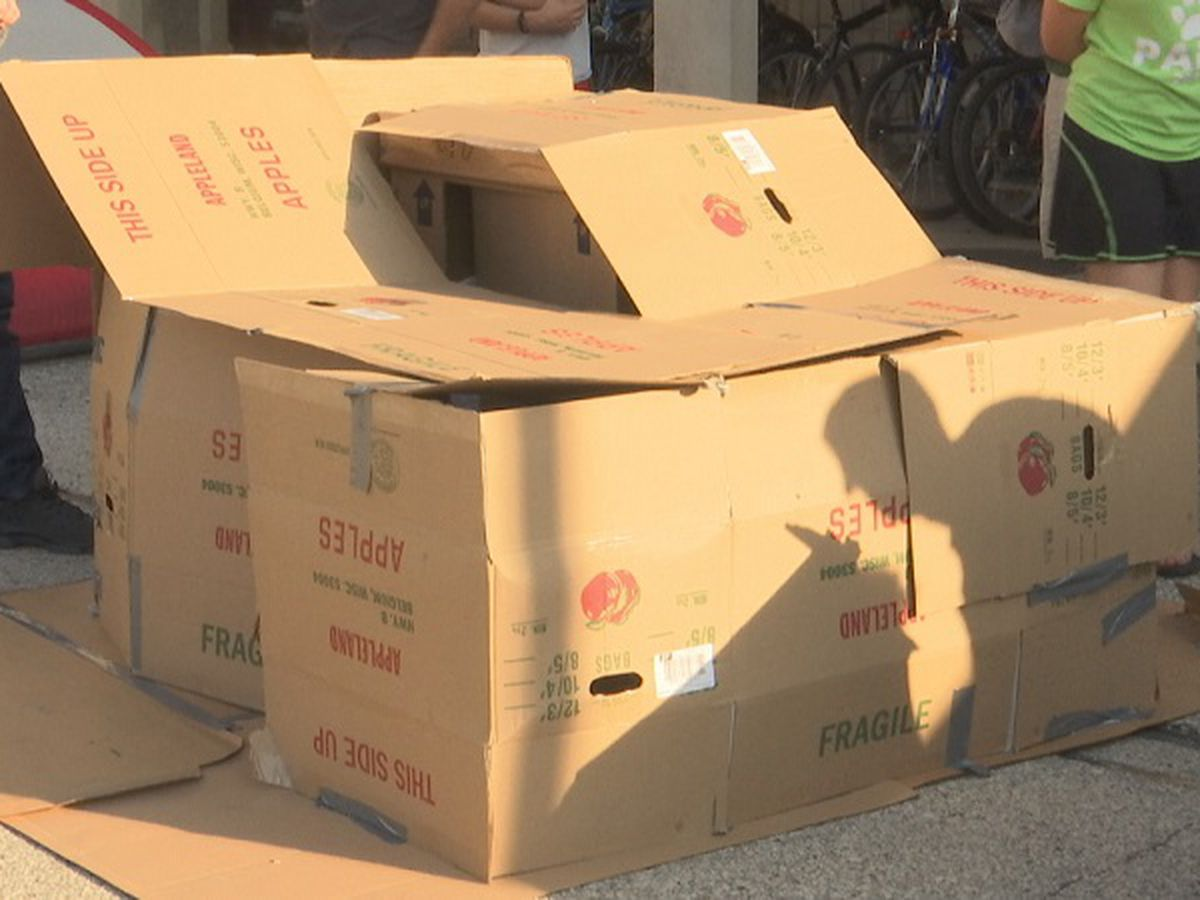bike: (884, 11, 1041, 214)
box: (7, 55, 1200, 866)
person: (1037, 1, 1200, 300)
